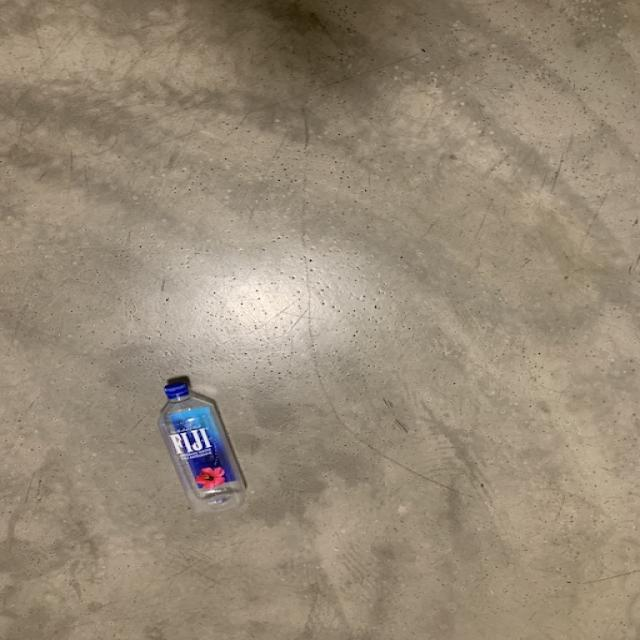litter: (159, 376, 255, 518)
